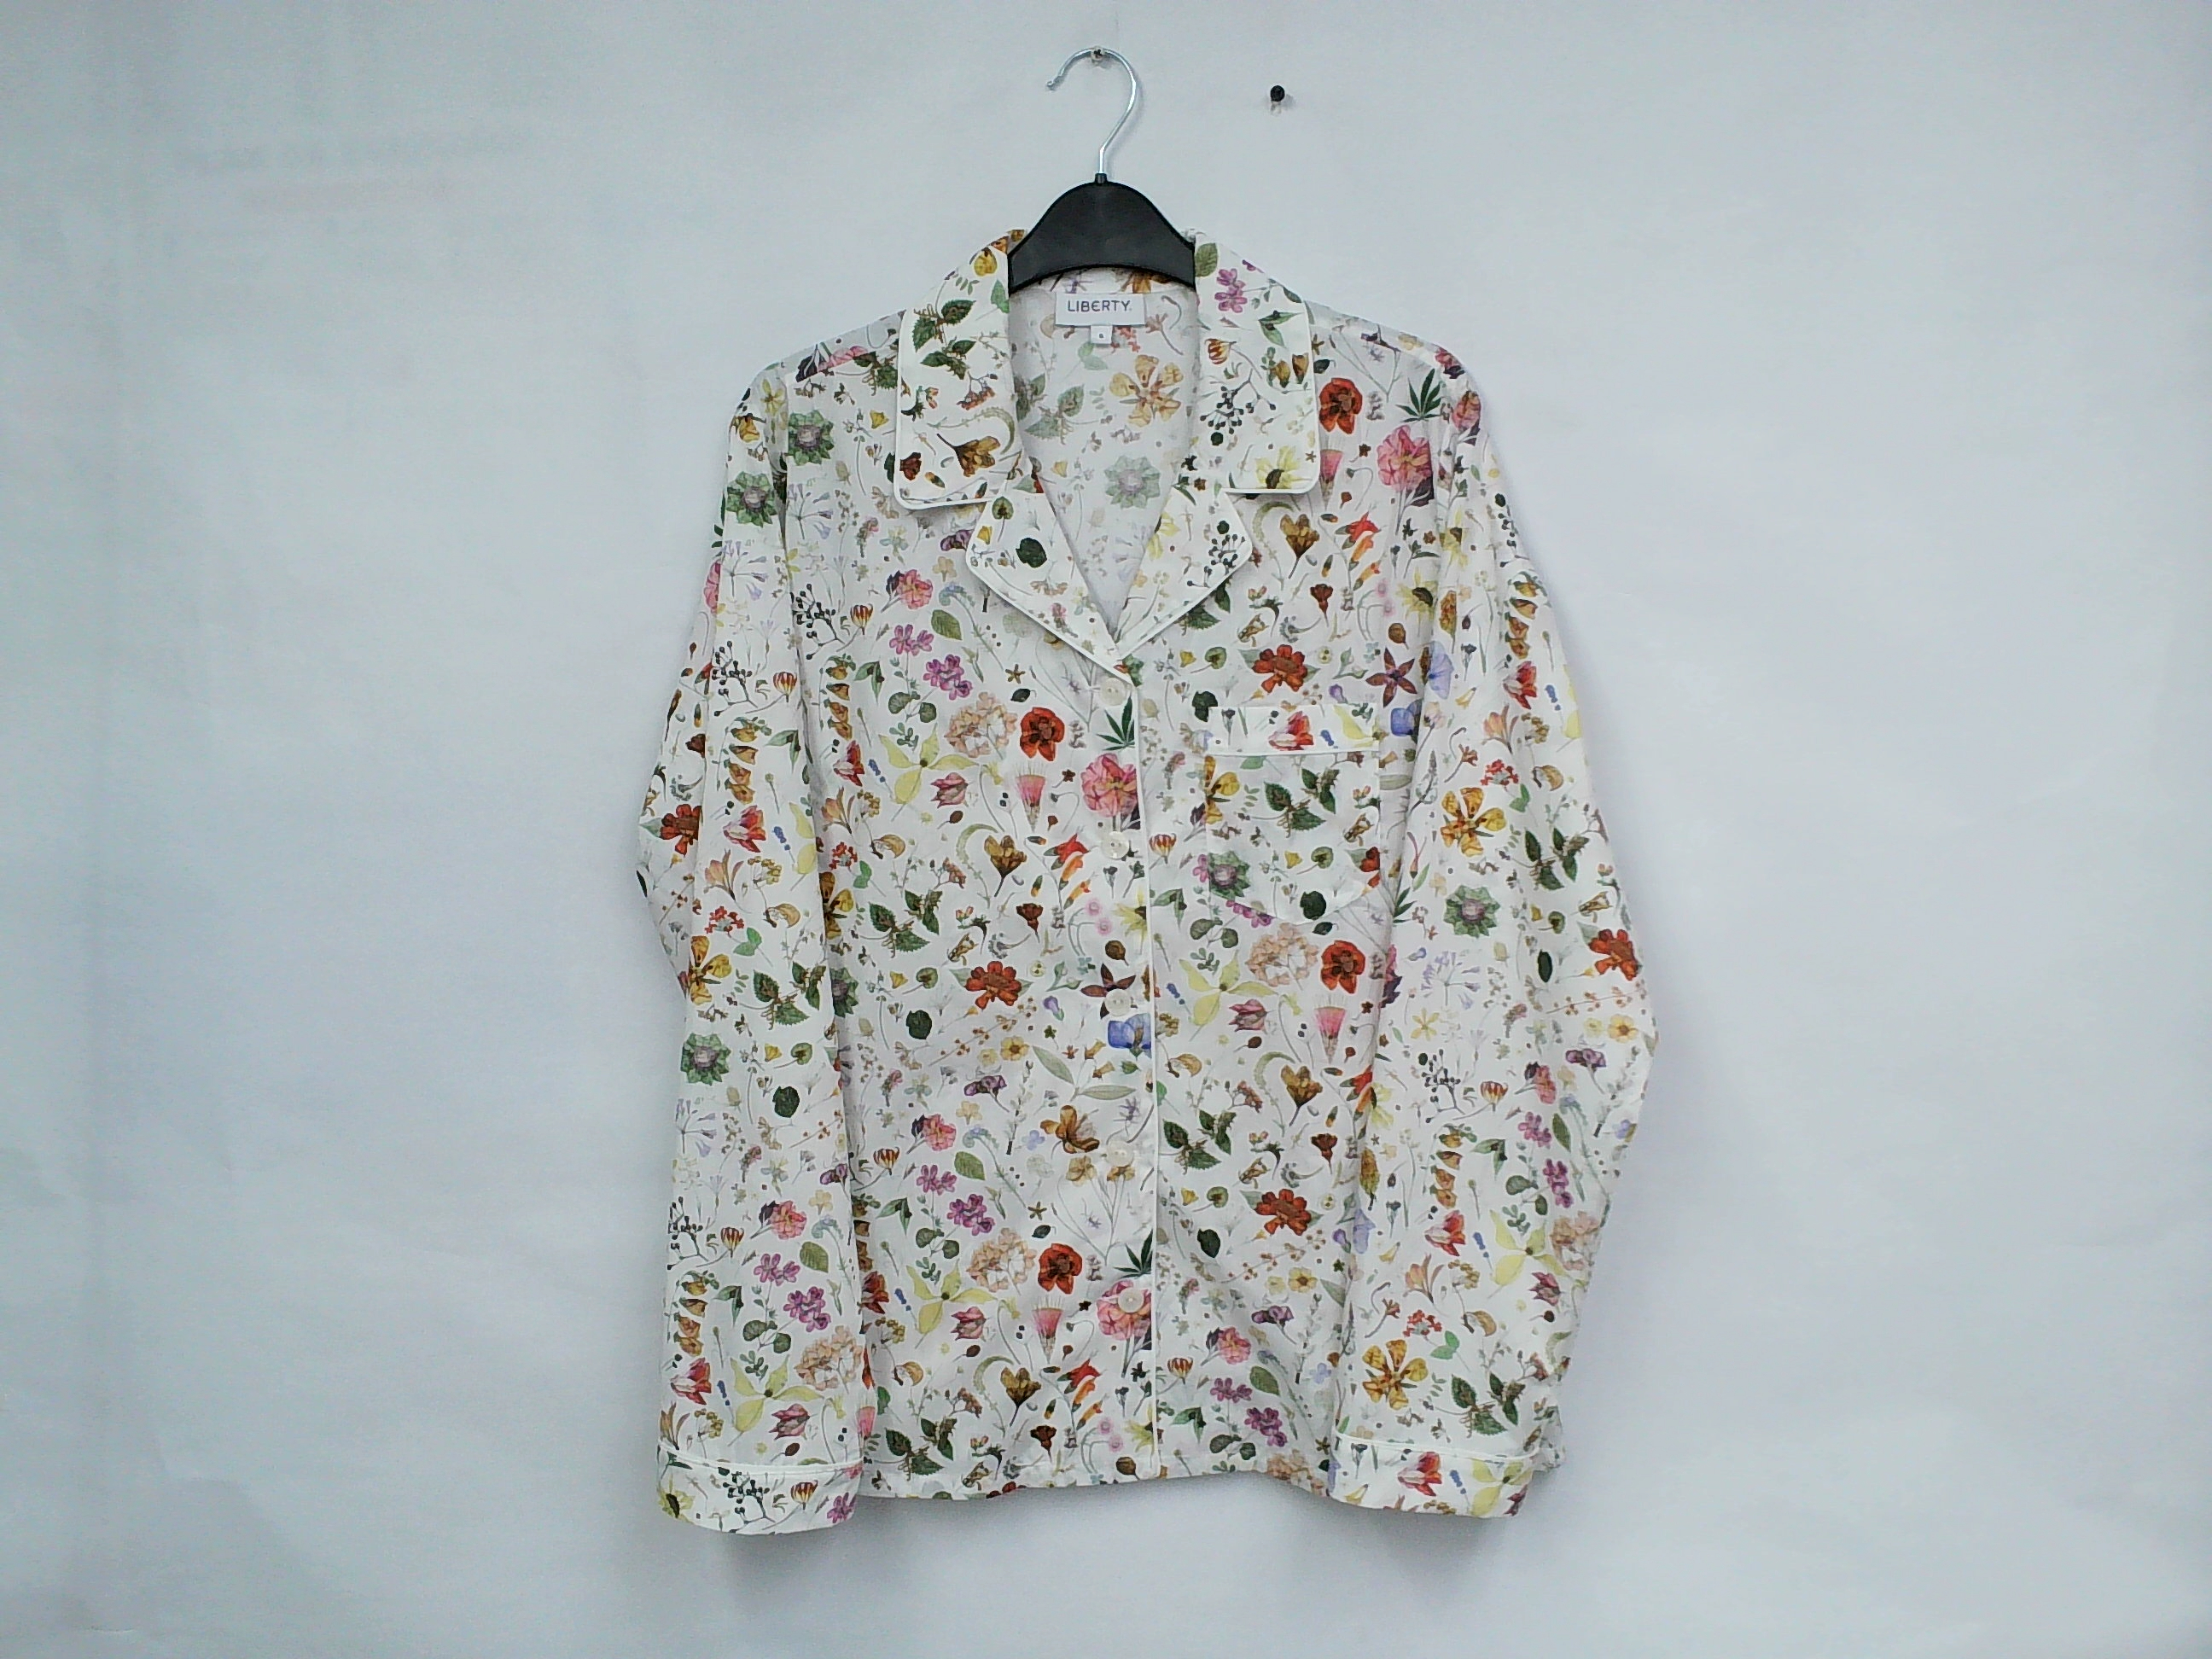wrinkles: (646, 1438, 862, 1504)
